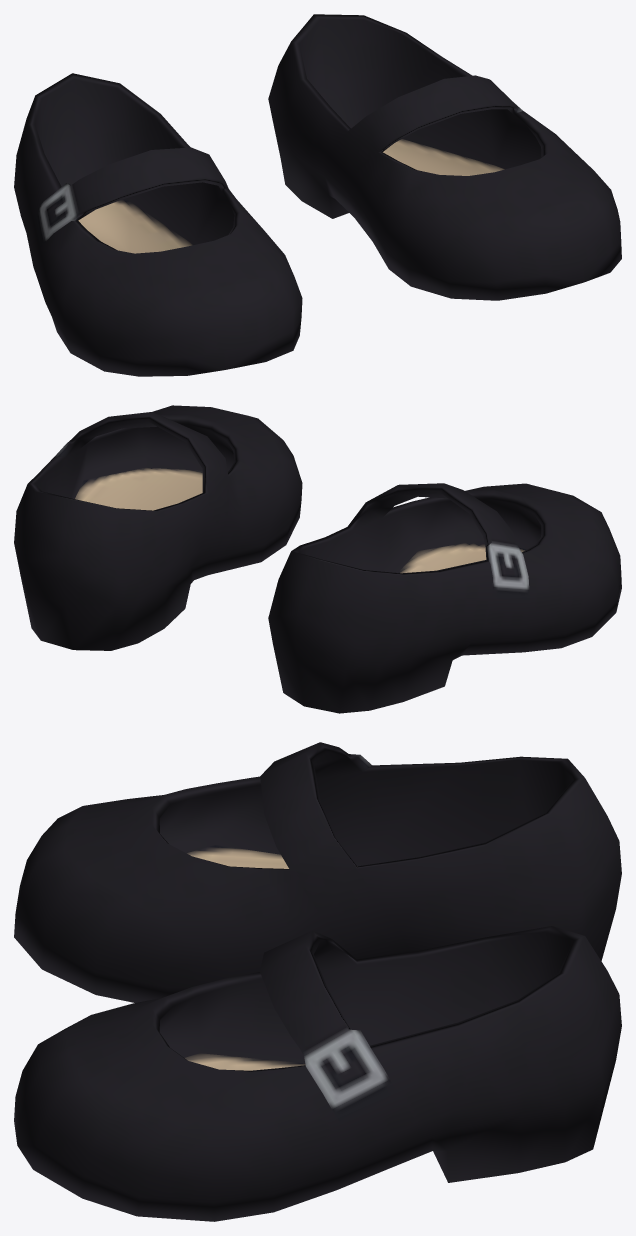
Rendered from ShoesLowcutStrap0.glb.
The picture shows the model from 3 angles, top to bottom: view 1: azimuth 30°, elevation 25°; view 2: azimuth 150°, elevation 25°; view 3: azimuth 270°, elevation 25°; orthographic projection. The views are drawn at different scales.
Visible parts, largest first — view 1: Body__mShoes; view 2: Body__mShoes; view 3: Body__mShoes.
Part boxes in pixels (x1,y1,x2,y2): Body__mShoes: (14, 14, 621, 376); Body__mShoes: (14, 405, 621, 713); Body__mShoes: (14, 742, 621, 1221).
Size of the model in its own units: 3.28 by 0.8835 by 2.4.
Materials: 1 (1 with a texture image).
